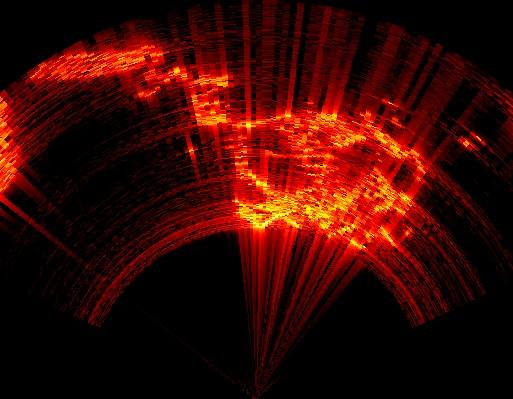shipwreck: (26, 41, 424, 247)
